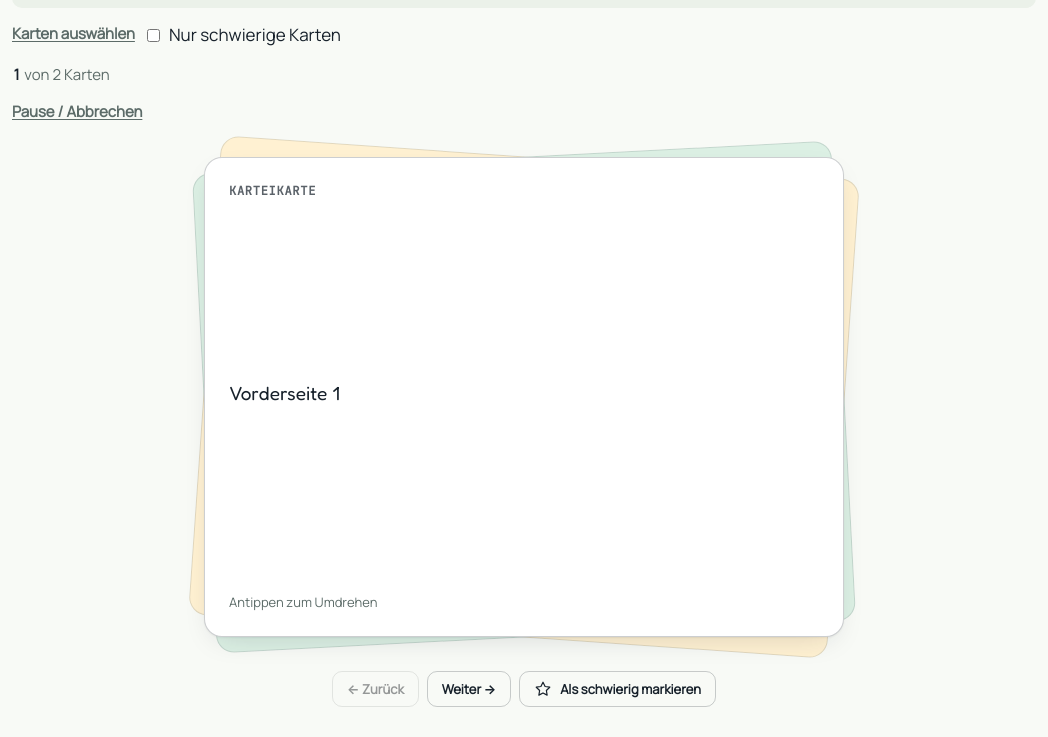
Test: Flashcards (F-110/F-111, nur Karteikarten) › verbucht die Bewertung mit Idempotenzschlüssel über submitReview und geht zur nächsten Karte
The image size is (1048, 737).
Step 1. Click the text "Vorderseite 1" → (284, 392), box [229,381,340,404]
(page scrolled)
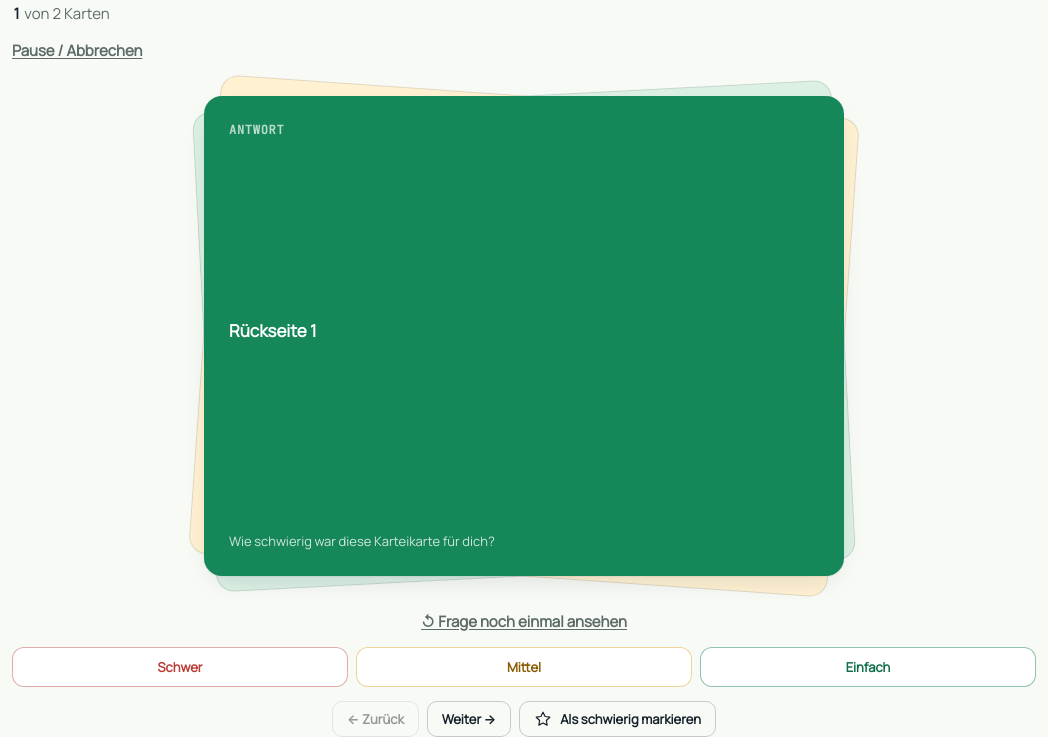
Step 2. Click the button "Einfach" → (868, 667), box [700,647,1036,687]
(page scrolled)
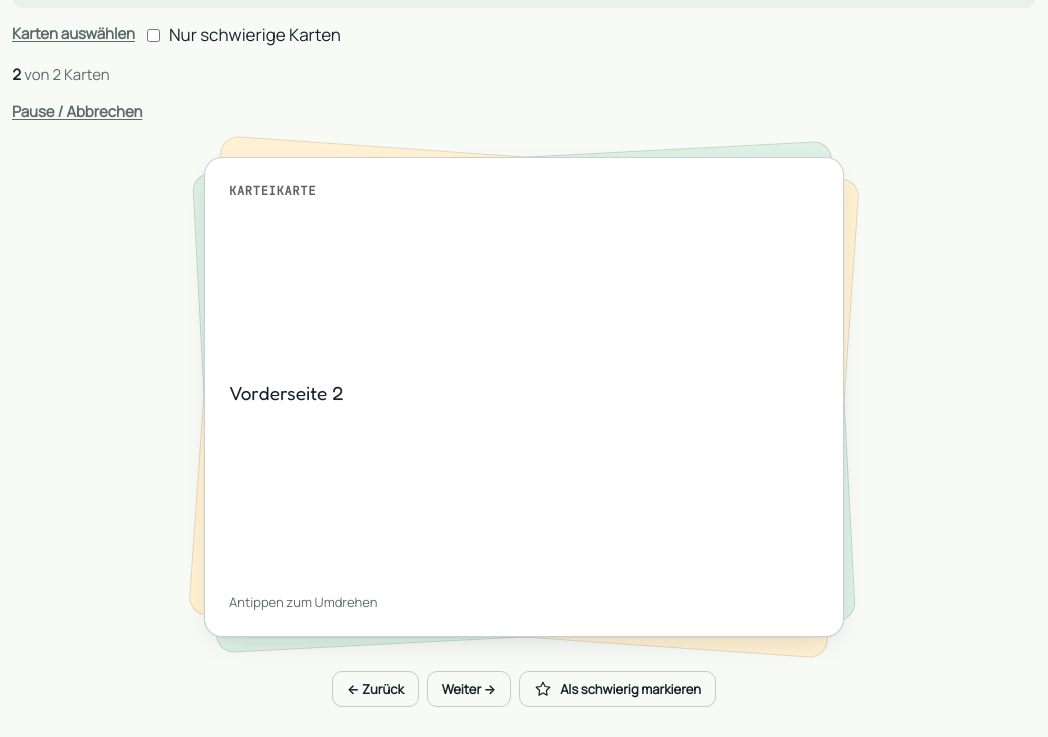
Check: the text "Vorderseite 2" is shown, box [229,381,344,404]
